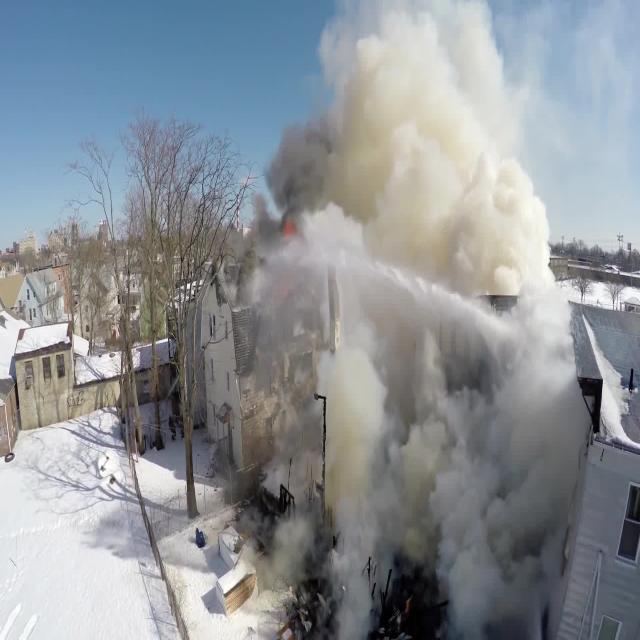Smoke: (364, 0, 591, 626)
